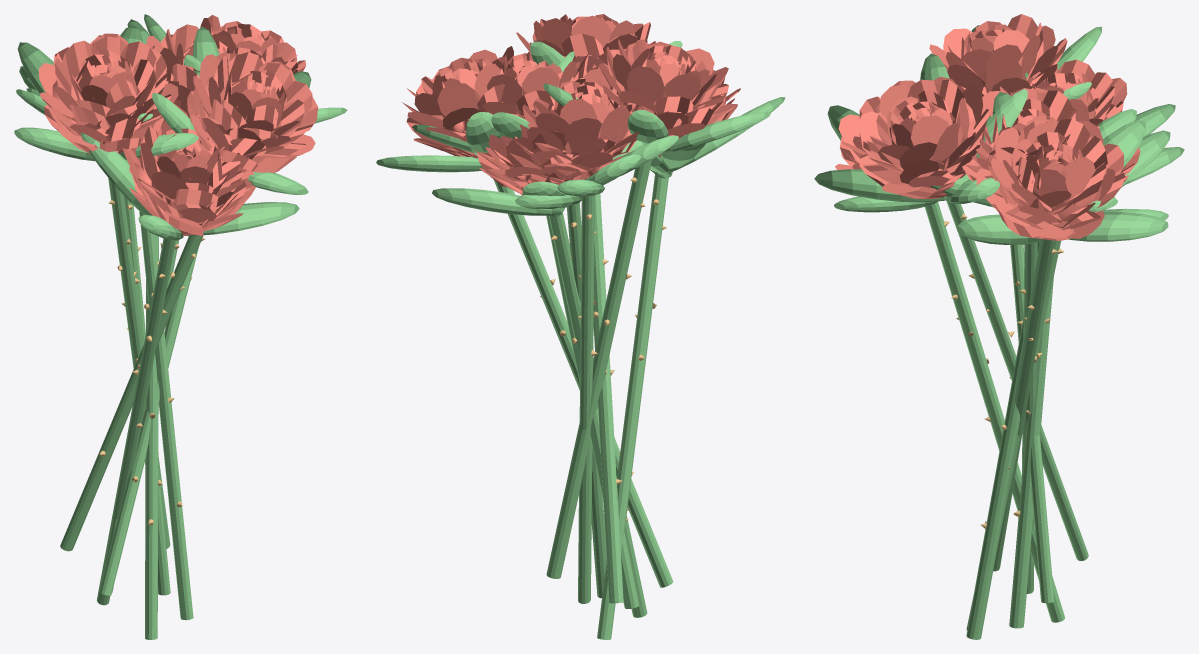
The model's file is roses_bunch.dae.
3 views of the same model, side by side, from view 1: azimuth 30°, elevation 25°; view 2: azimuth 150°, elevation 25°; view 3: azimuth 270°, elevation 25° (orthographic).
Parts seen in each view (by area): view 1: model; view 2: model; view 3: model.
Boxes of the visible parts, x1,y1,x2,y2 form: model: (14,14,347,639); model: (376,14,785,639); model: (814,14,1184,639).
Size of the model in its own units: 1.77 by 1.74 by 3.05.
